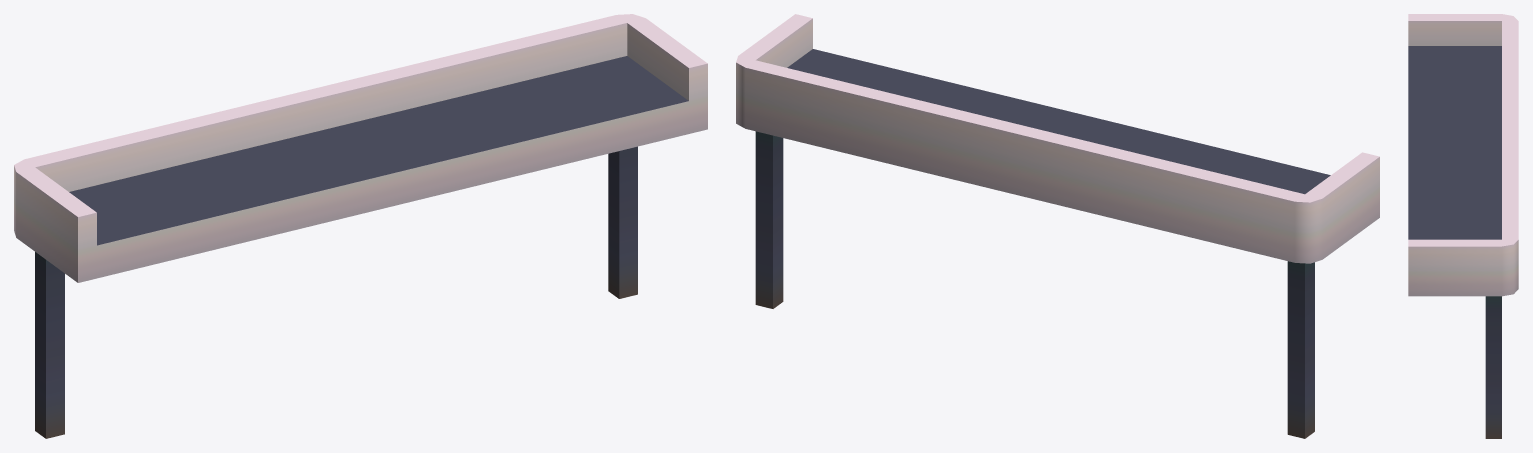
The model's file is com_detail_overhang_wide.glb.
3 renders of one model, left to right at view 1: azimuth 30°, elevation 25°; view 2: azimuth 150°, elevation 25°; view 3: azimuth 270°, elevation 25°, orthographic. The views are drawn at different scales.
Parts seen in each view (by area): view 1: detail-overhang-wide; view 2: detail-overhang-wide; view 3: detail-overhang-wide.
Boxes of the visible parts, box(x1,y1,x2,y2) form: detail-overhang-wide: box(14, 14, 707, 438); detail-overhang-wide: box(736, 14, 1379, 438); detail-overhang-wide: box(1408, 14, 1518, 438).
Bounding box in the file's own units: 1 × 0.4 × 0.2.
1 material, 1 textured.
